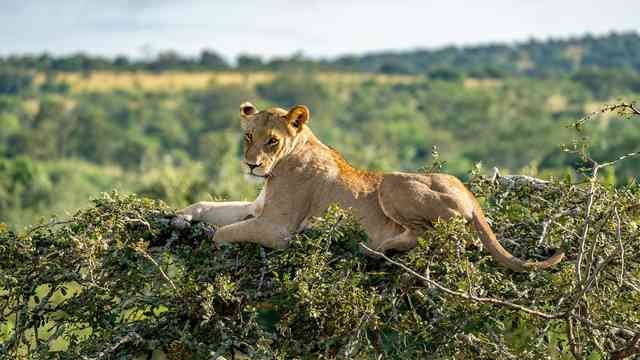lion: (160, 100, 572, 272)
